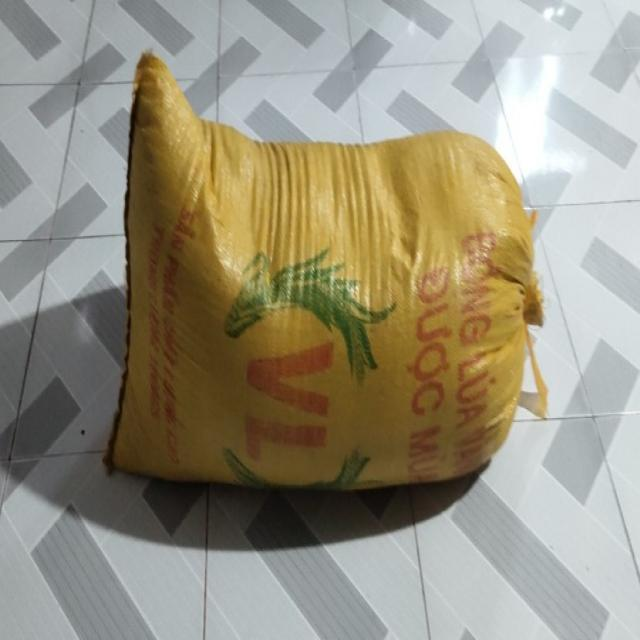gunny_bag: (105, 52, 547, 490)
